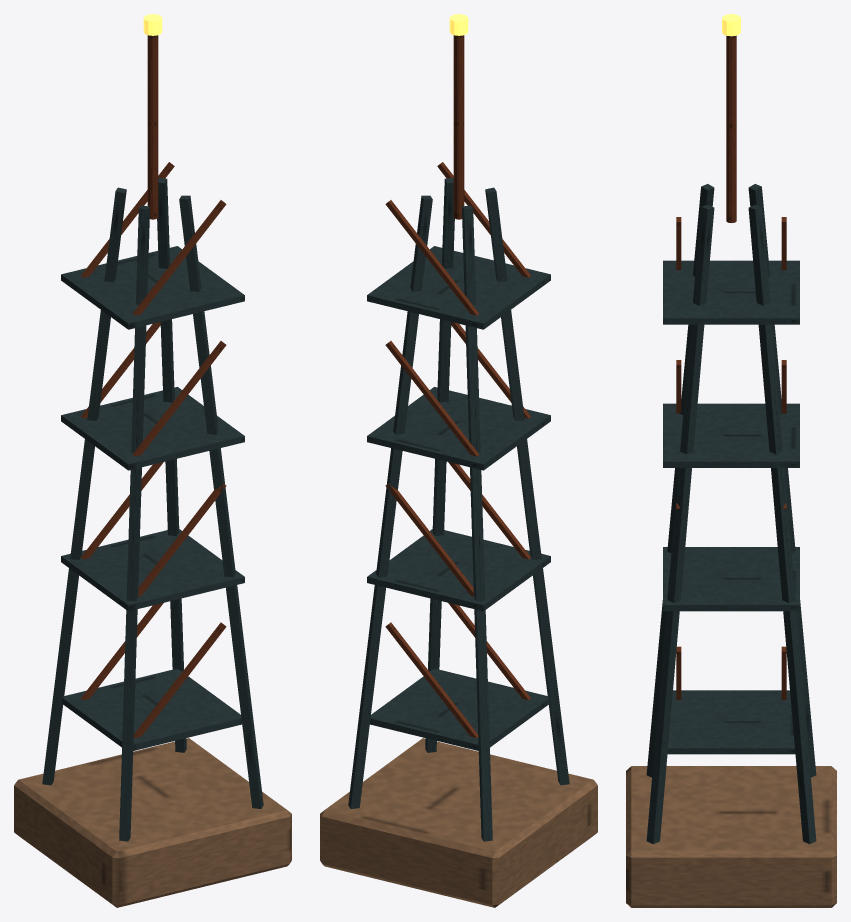
The model's file is tower.glb.
3 views of the same model, side by side, from view 1: azimuth 30°, elevation 25°; view 2: azimuth 150°, elevation 25°; view 3: azimuth 270°, elevation 25° (orthographic).
Parts seen in each view (by area): view 1: tower_metal.004, tower_plaster.004, tower_rust.004; view 2: tower_metal.004, tower_plaster.004, tower_rust.004; view 3: tower_metal.004, tower_plaster.004, tower_rust.004.
Part boxes in pixels (x1,y1,x2,y2): tower_metal.004: (42,177,263,841); tower_plaster.004: (14,738,291,907); tower_rust.004: (81,35,226,737); tower_metal.004: (348,177,569,841); tower_plaster.004: (320,738,597,907); tower_rust.004: (385,35,530,737); tower_metal.004: (646,184,816,844); tower_plaster.004: (626,766,836,907); tower_rust.004: (676,35,786,699).
Bounding box in the file's own units: 4 × 17.75 × 4.
Materials: 4 (3 with a texture image).
